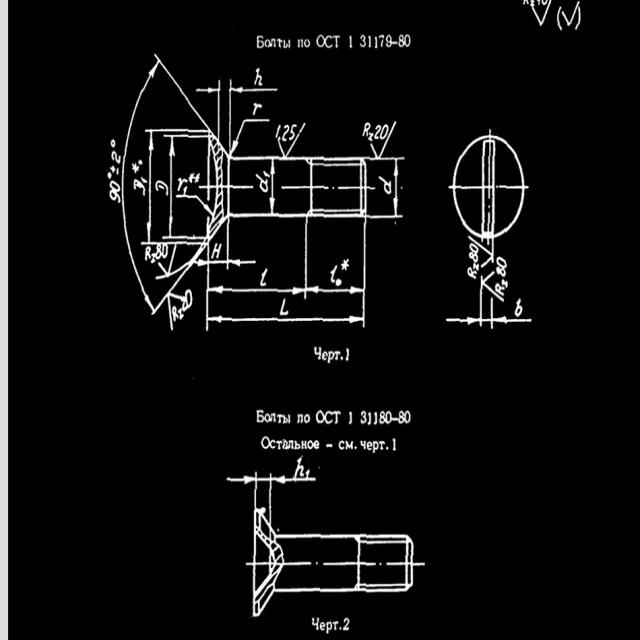marking_line: (207, 311, 366, 327), (209, 285, 302, 297), (307, 285, 364, 297), (146, 134, 152, 239), (168, 138, 174, 234), (275, 473, 319, 484), (226, 472, 255, 486), (232, 84, 281, 92), (393, 161, 400, 216), (443, 314, 477, 325), (494, 318, 533, 327), (268, 161, 274, 210), (196, 86, 218, 99), (231, 257, 256, 267), (196, 257, 208, 268)
numeric: (107, 180, 122, 209), (374, 123, 390, 143), (495, 255, 509, 277), (154, 241, 171, 258), (466, 242, 480, 260)
special_symbol: (231, 114, 273, 156), (166, 295, 190, 325), (480, 276, 504, 303), (276, 135, 298, 157), (370, 138, 388, 158), (479, 242, 491, 271)
